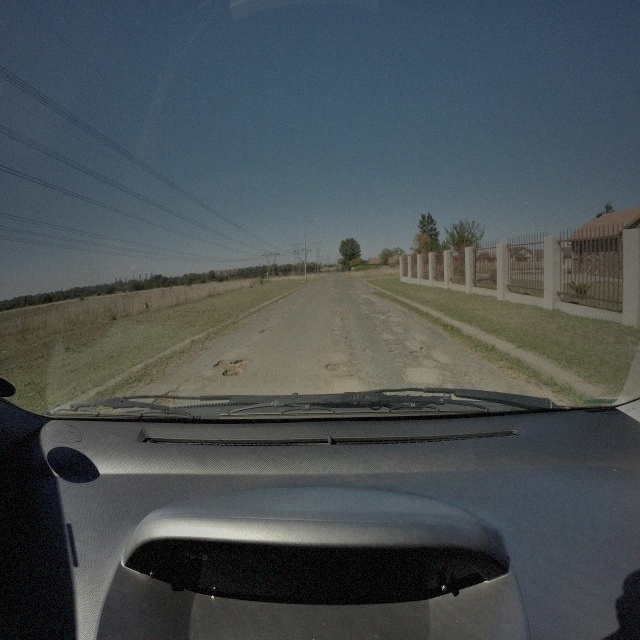pothole: (148, 382, 180, 412), (212, 356, 251, 379), (324, 363, 350, 374), (332, 310, 350, 324), (422, 339, 435, 353), (414, 345, 424, 357), (395, 320, 409, 328), (260, 326, 270, 337), (378, 324, 387, 335), (390, 348, 400, 356), (345, 337, 353, 347), (364, 347, 372, 356)
